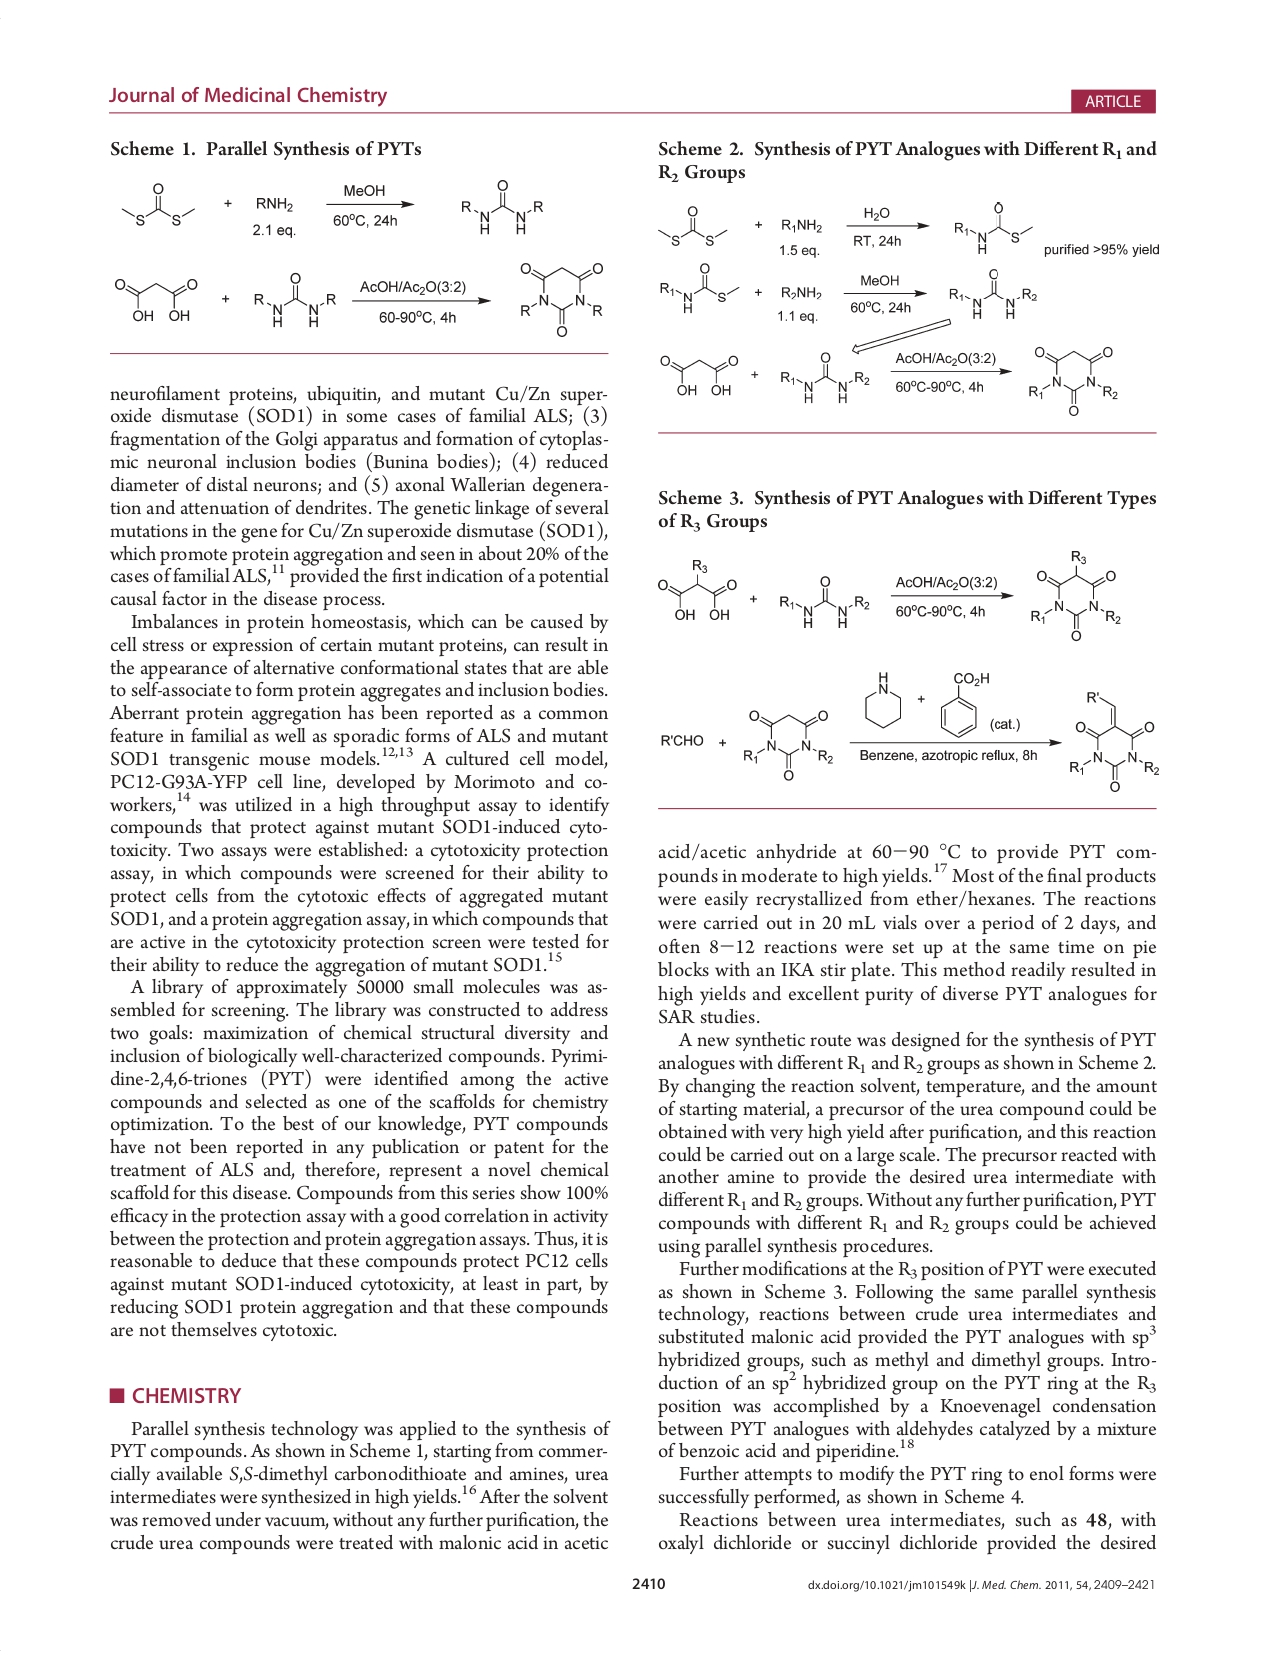exist_molecular: (1065, 688, 1168, 797), (1029, 545, 1122, 646), (511, 258, 609, 340), (1021, 342, 1122, 418), (737, 707, 836, 783), (453, 176, 547, 239), (104, 270, 201, 330), (247, 267, 336, 332), (946, 265, 1041, 322), (777, 575, 872, 632), (657, 555, 737, 622), (777, 350, 872, 406), (953, 199, 1035, 259), (656, 261, 742, 314), (654, 348, 739, 402), (121, 182, 199, 231), (938, 666, 991, 738), (653, 202, 731, 249), (858, 664, 907, 731)
